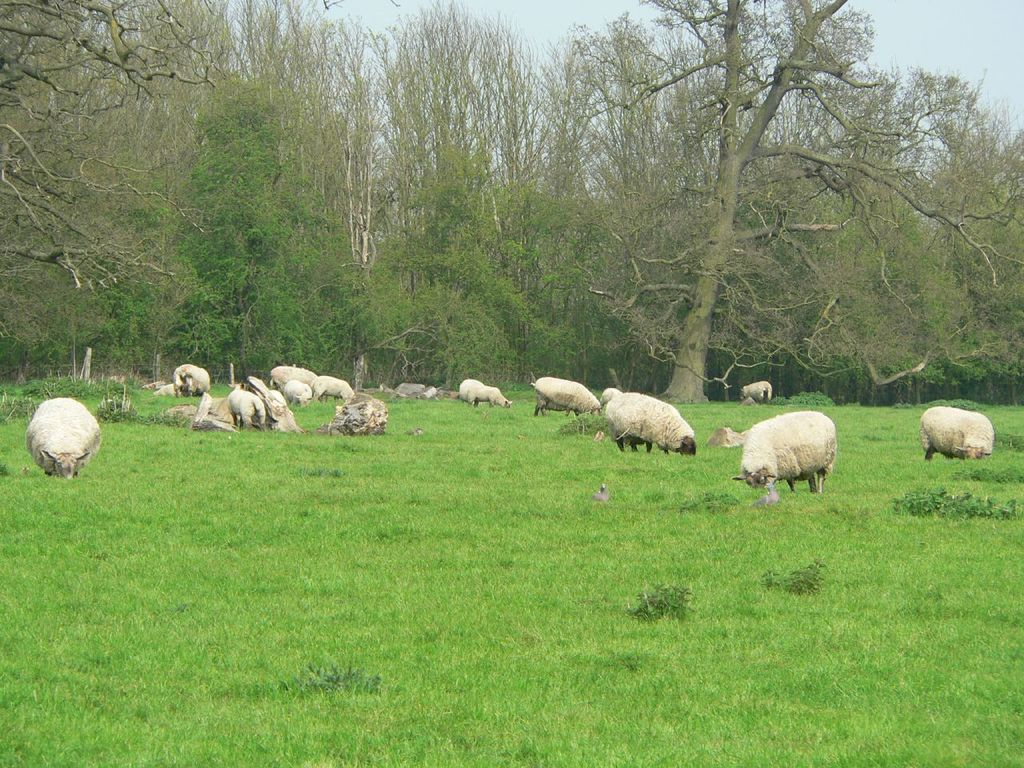sheep: (592, 384, 700, 462), (28, 395, 102, 479)
